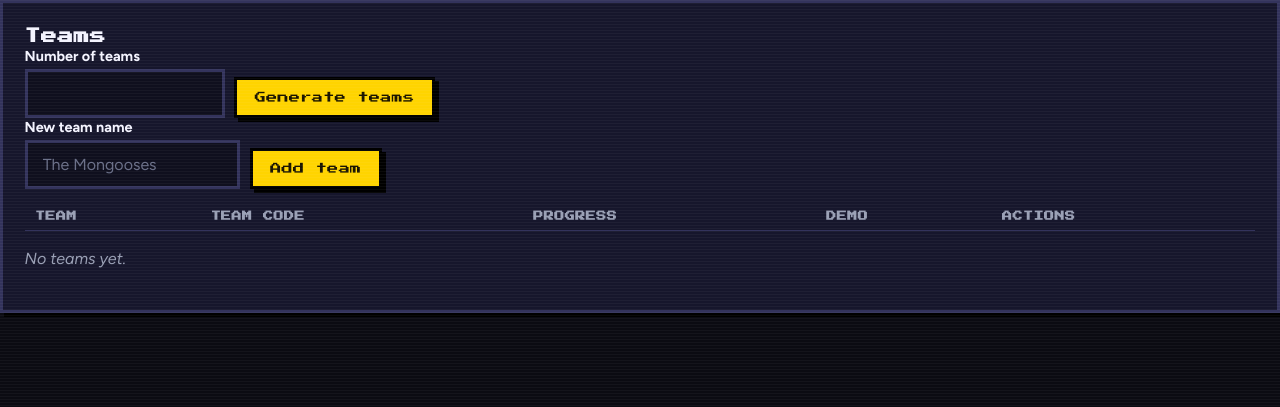
it: TeamsPanel › surfaces an action failure
The image size is (1280, 407).
Type "The Owls" into the field labelled "New team name".
click(132, 164); type("The Owls")  # box [25, 140, 240, 189]
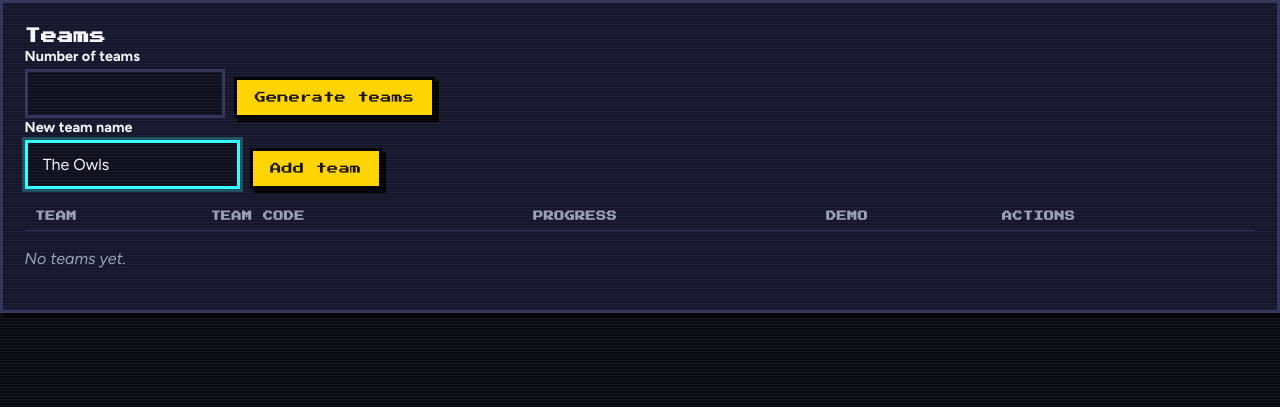
Click the button "Add team".
click(316, 168)  # box [250, 148, 382, 189]
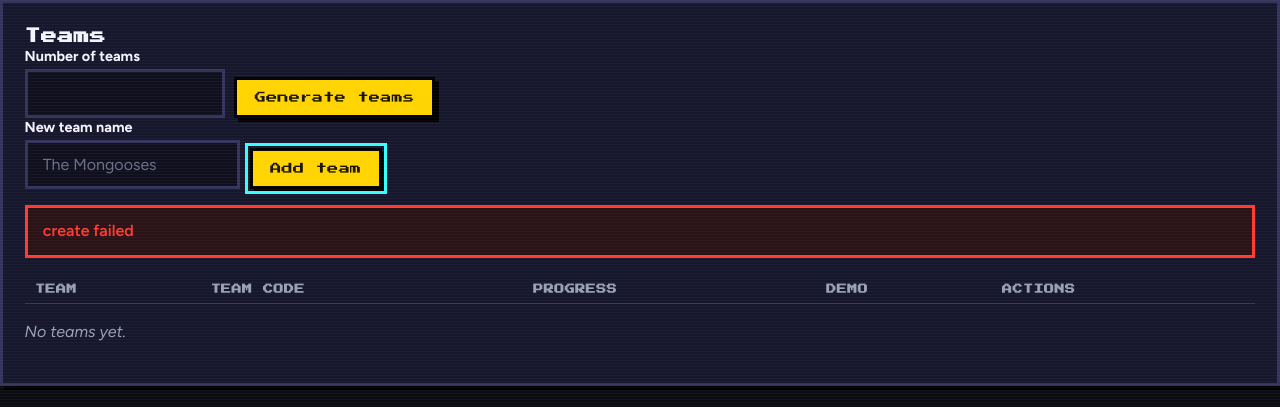
Expected: the text "create failed" is shown, [25, 205, 1255, 258]
